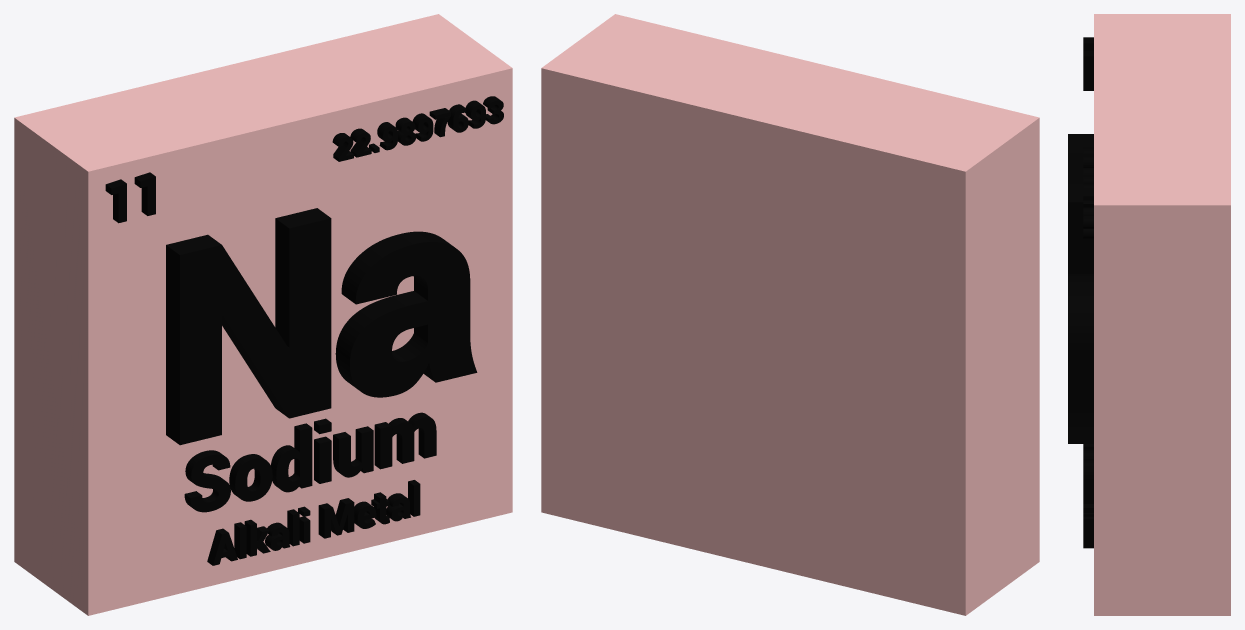
3 views of the same model, side by side, from view 1: azimuth 30°, elevation 25°; view 2: azimuth 150°, elevation 25°; view 3: azimuth 270°, elevation 25° (orthographic). The views are drawn at different scales.
Parts seen in each view (by area): view 1: Cube, Text, Text.001, Text.002, Text.004, Text.003; view 2: Cube; view 3: Cube, Text, Text.004, Text.001, Text.003, Text.002.
Part boxes in pixels (left/top/right/bottom): Cube: left=14, top=14, right=512, bottom=615; Text: left=166, top=208, right=477, bottom=445; Text.001: left=184, top=412, right=436, bottom=512; Text.002: left=207, top=480, right=420, bottom=565; Text.004: left=332, top=96, right=503, bottom=161; Text.003: left=105, top=172, right=155, bottom=223; Cube: left=541, top=14, right=1039, bottom=615; Cube: left=1094, top=14, right=1230, bottom=615; Text: left=1068, top=134, right=1093, bottom=443; Text.004: left=1083, top=147, right=1093, bottom=238; Text.001: left=1083, top=444, right=1093, bottom=503; Text.003: left=1083, top=37, right=1093, bottom=90; Text.002: left=1083, top=504, right=1093, bottom=548.
Size of the model in its own units: 178 by 178 by 63.95.
